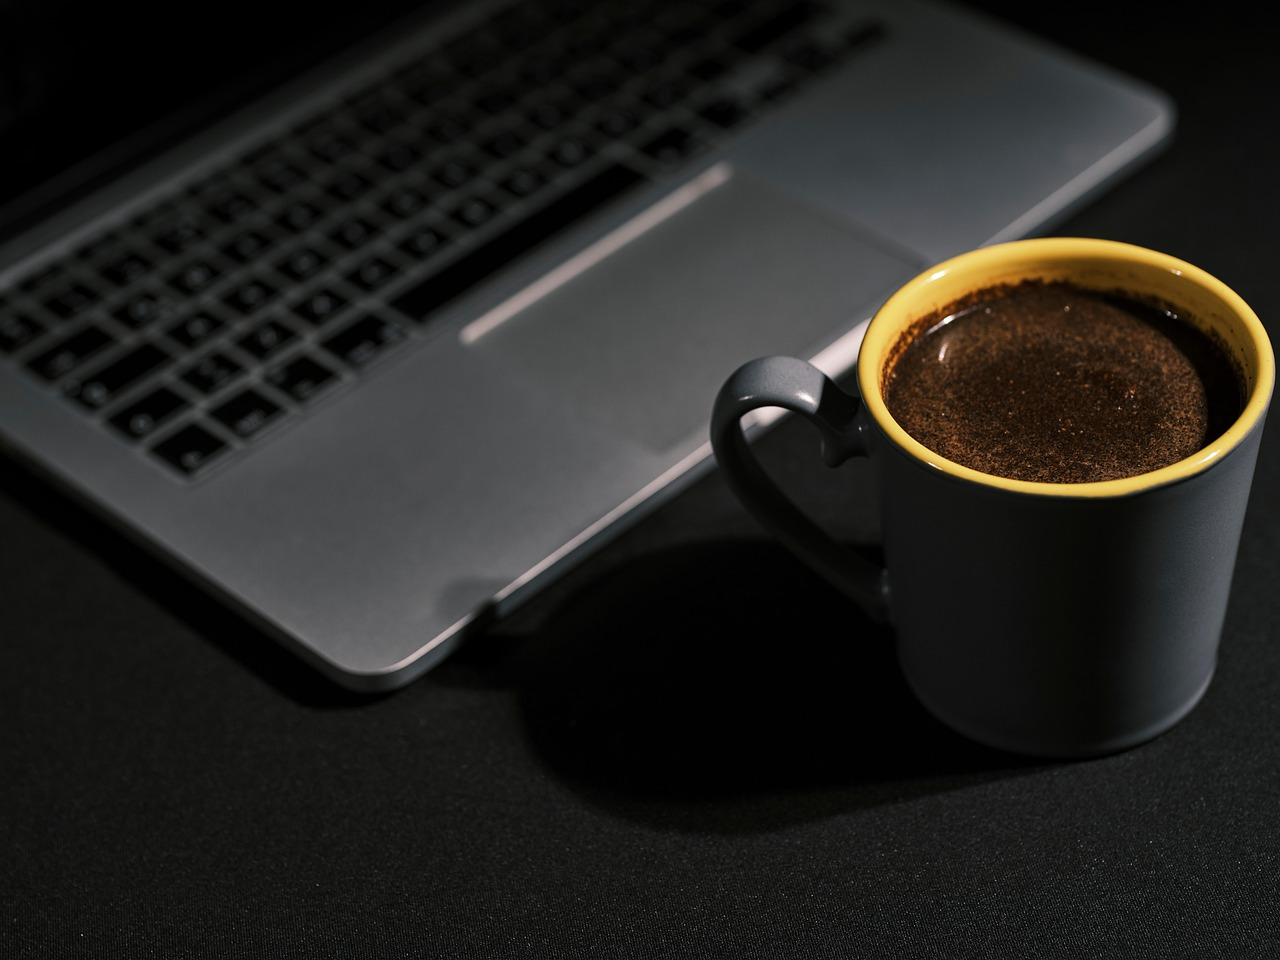mug: (715, 234, 1280, 755)
